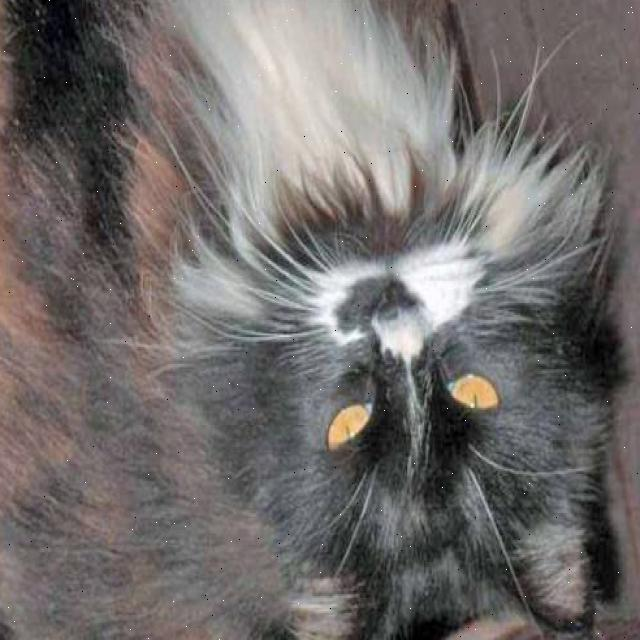Cat: (219, 162, 602, 627)
